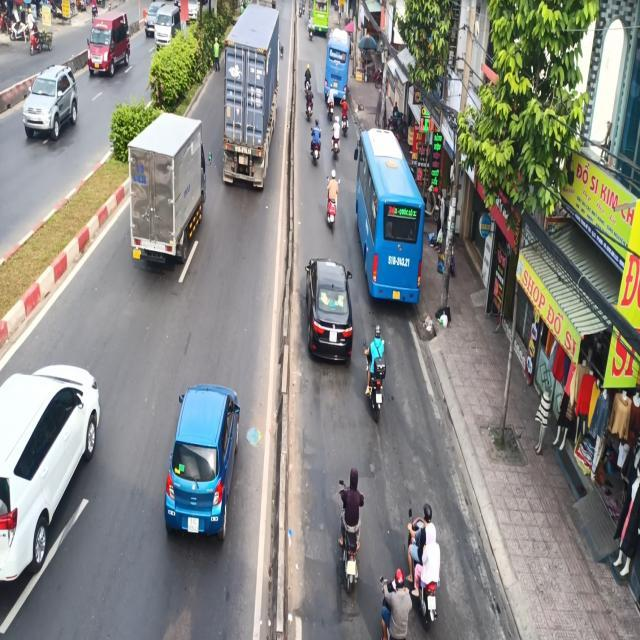bus: (354, 127, 425, 305)
car: (0, 363, 101, 583), (163, 383, 240, 540), (304, 257, 353, 364)
container-truck: (220, 4, 280, 190)
motorcycle: (362, 347, 386, 422)
person: (337, 467, 364, 554), (364, 324, 385, 395), (211, 36, 220, 71)
truck: (126, 111, 206, 268)
